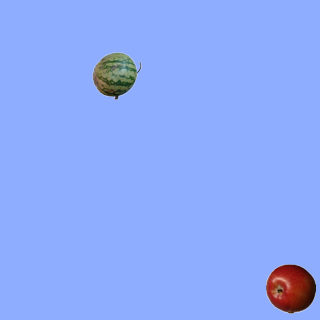Apple Braeburn: (265, 263, 315, 313)
Watermelon: (91, 50, 141, 100)
